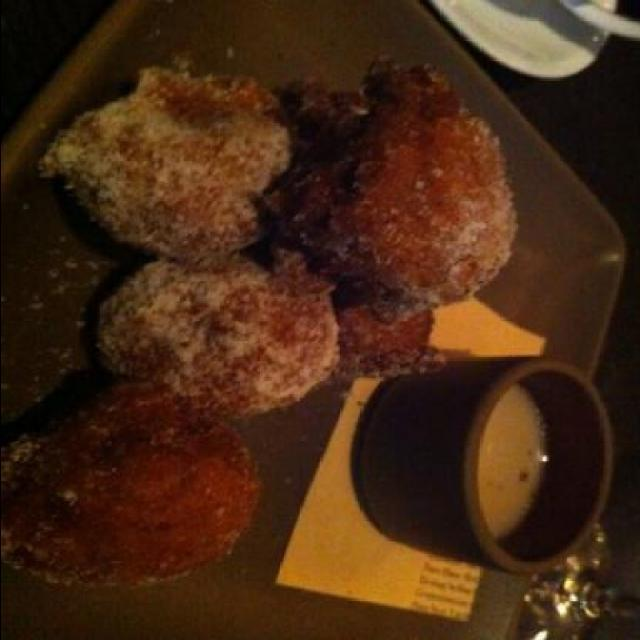Donuts: (13, 49, 516, 408)
